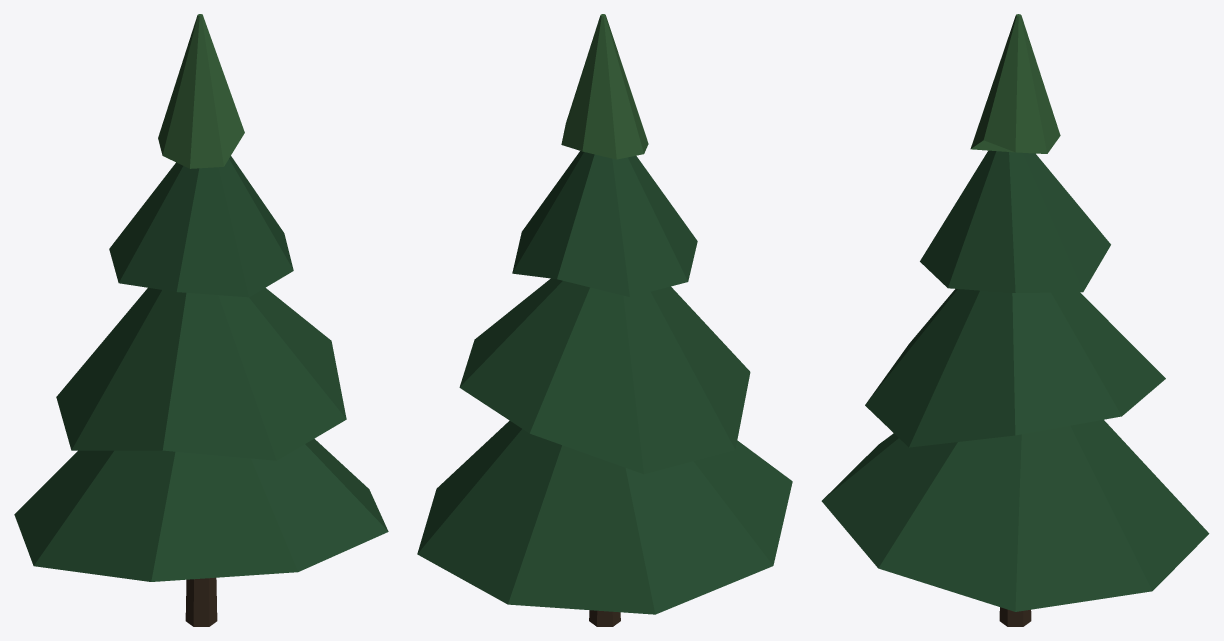
File: UM_Fichte_Klein.fbx
The picture shows the model from 3 angles, left to right: view 1: azimuth 30°, elevation 25°; view 2: azimuth 150°, elevation 25°; view 3: azimuth 270°, elevation 25°; orthographic projection.
Parts seen in each view (by area): view 1: UM_Fichte_Klein; view 2: UM_Fichte_Klein; view 3: UM_Fichte_Klein.
Boxes of the visible parts, x1,y1,x2,y2 form: UM_Fichte_Klein: (14,14,388,626); UM_Fichte_Klein: (417,14,792,626); UM_Fichte_Klein: (821,14,1209,626).
Bounding box in the file's own units: 2.75 × 4.74 × 2.75.
